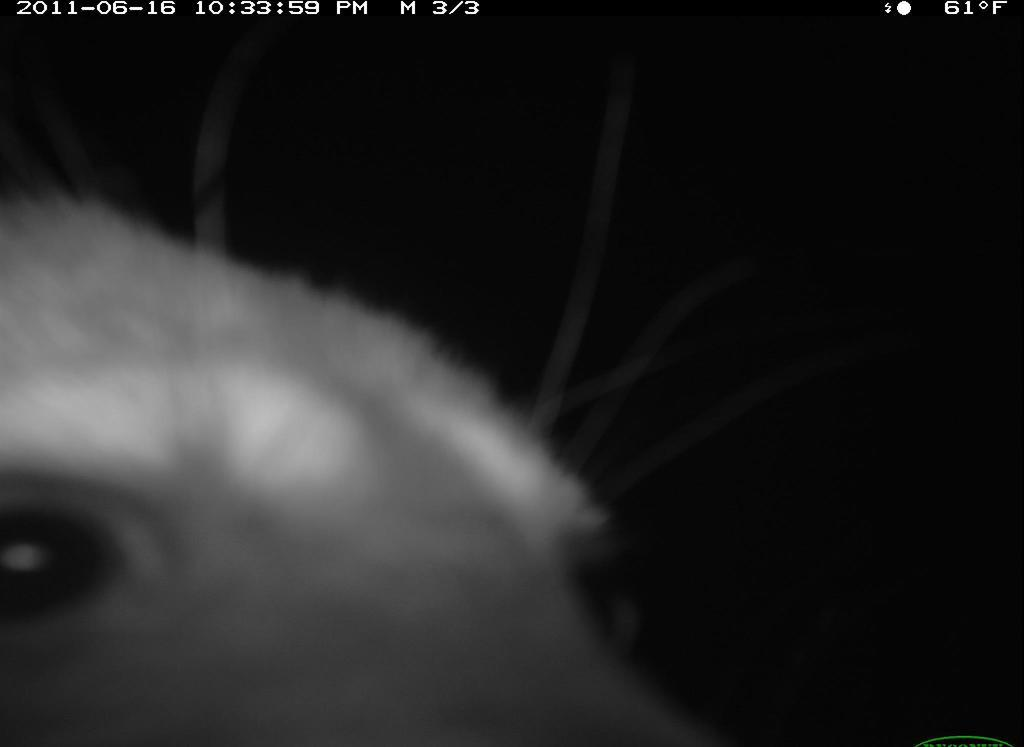raccoon: (3, 162, 739, 747)
